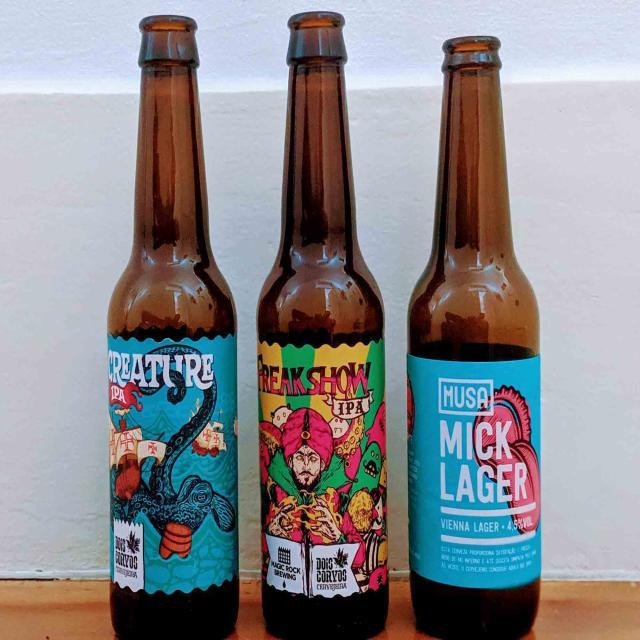Glass: (256, 12, 389, 640), (108, 12, 238, 640), (408, 35, 541, 640)
